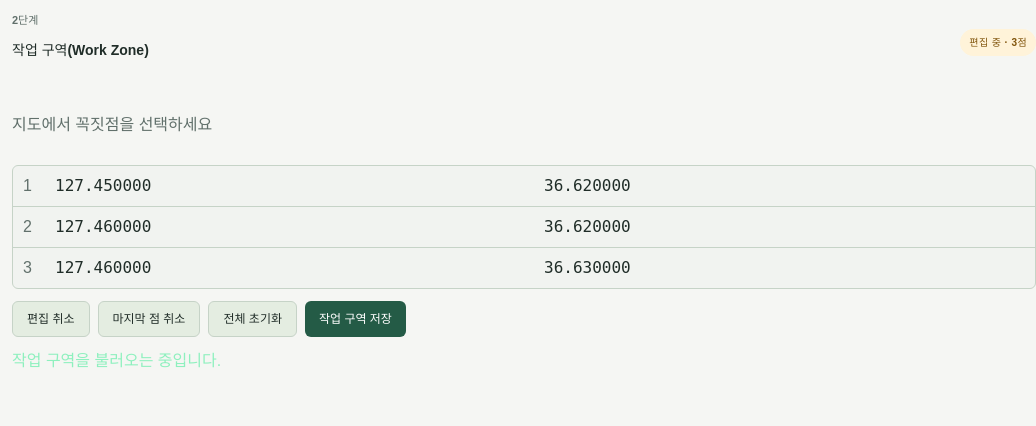
Test: WorkZoneEditor › 유효한 꼭짓점을 현재 version과 함께 저장하고 새 version을 반영한다
Click the button "작업 구역 저장".
click(355, 319)  # box [305,301,406,337]
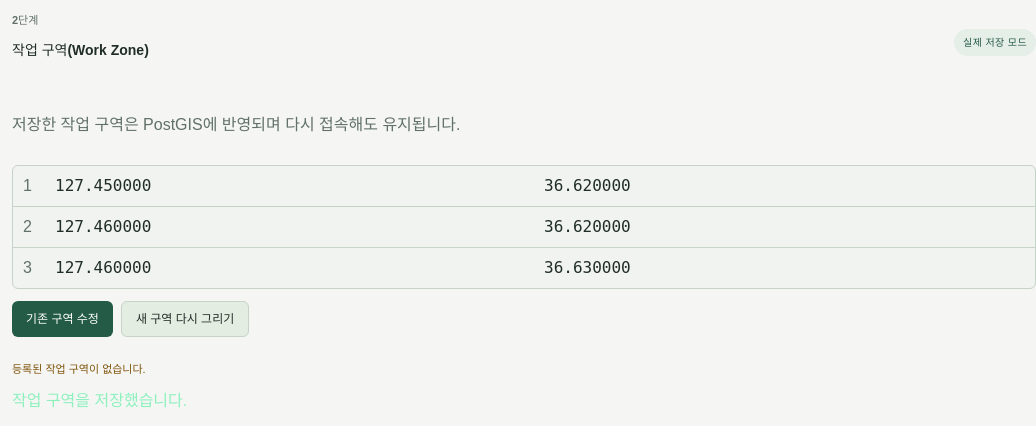
Result: the text "작업 구역을 저장했습니다." is shown at [12,392,187,409]
